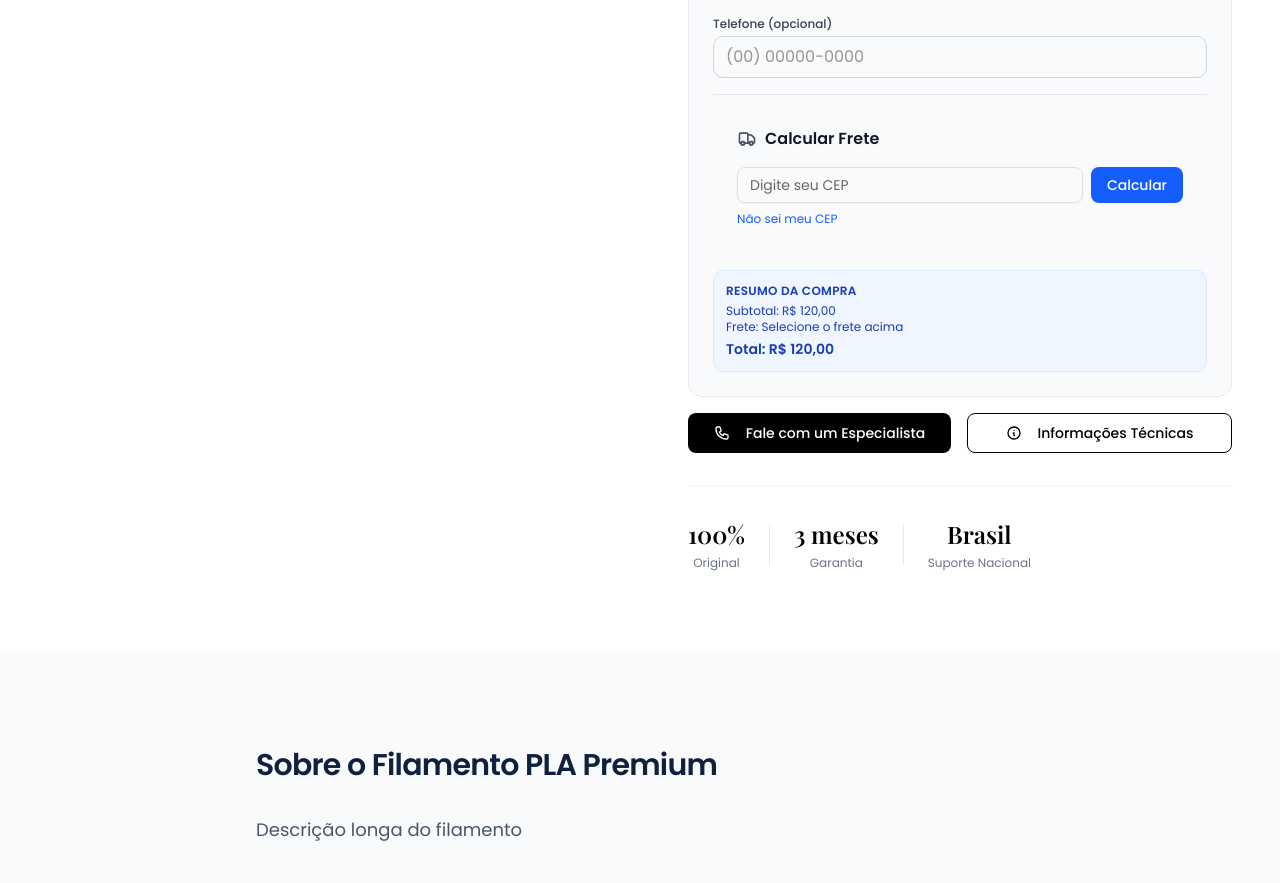
ProductClient (PDP UI) › deve renderizar o produto válido corretamente exibindo preço e especificações
This screenshot has width=1280, height=883.
(page scrolled)
// Abre o modal de especificações
Click the button "Informações Técnicas" at [1100, 433], box x1=967 y1=413 x2=1232 y2=453
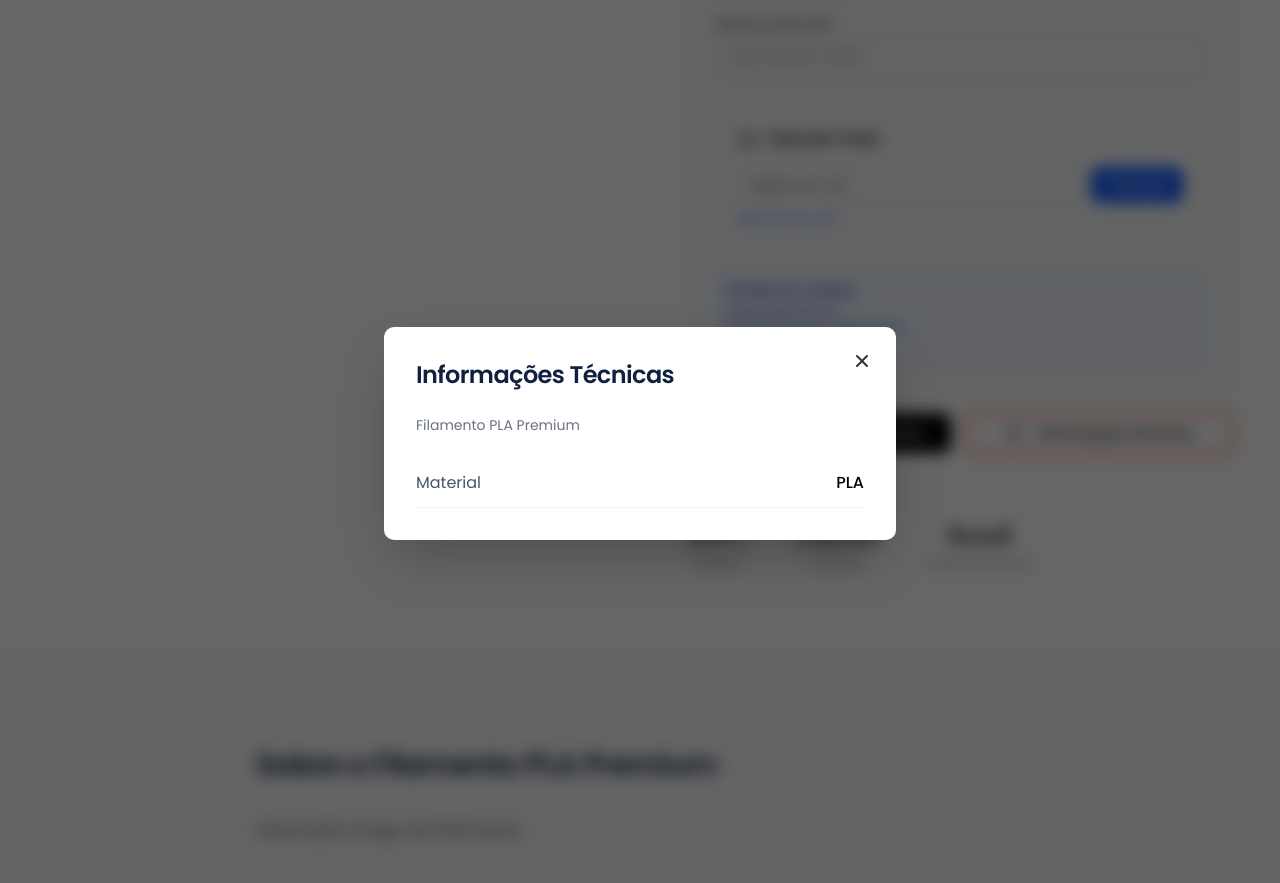
Now the text "Material" is shown, box x1=416 y1=470 x2=481 y2=494
Now the text "PLA" is shown, box x1=836 y1=470 x2=864 y2=494
